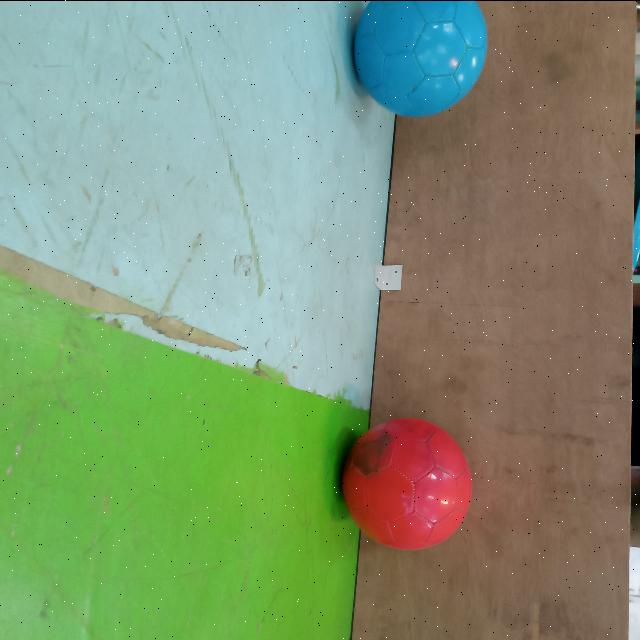B: (350, 0, 490, 118)
R: (336, 412, 476, 554)
